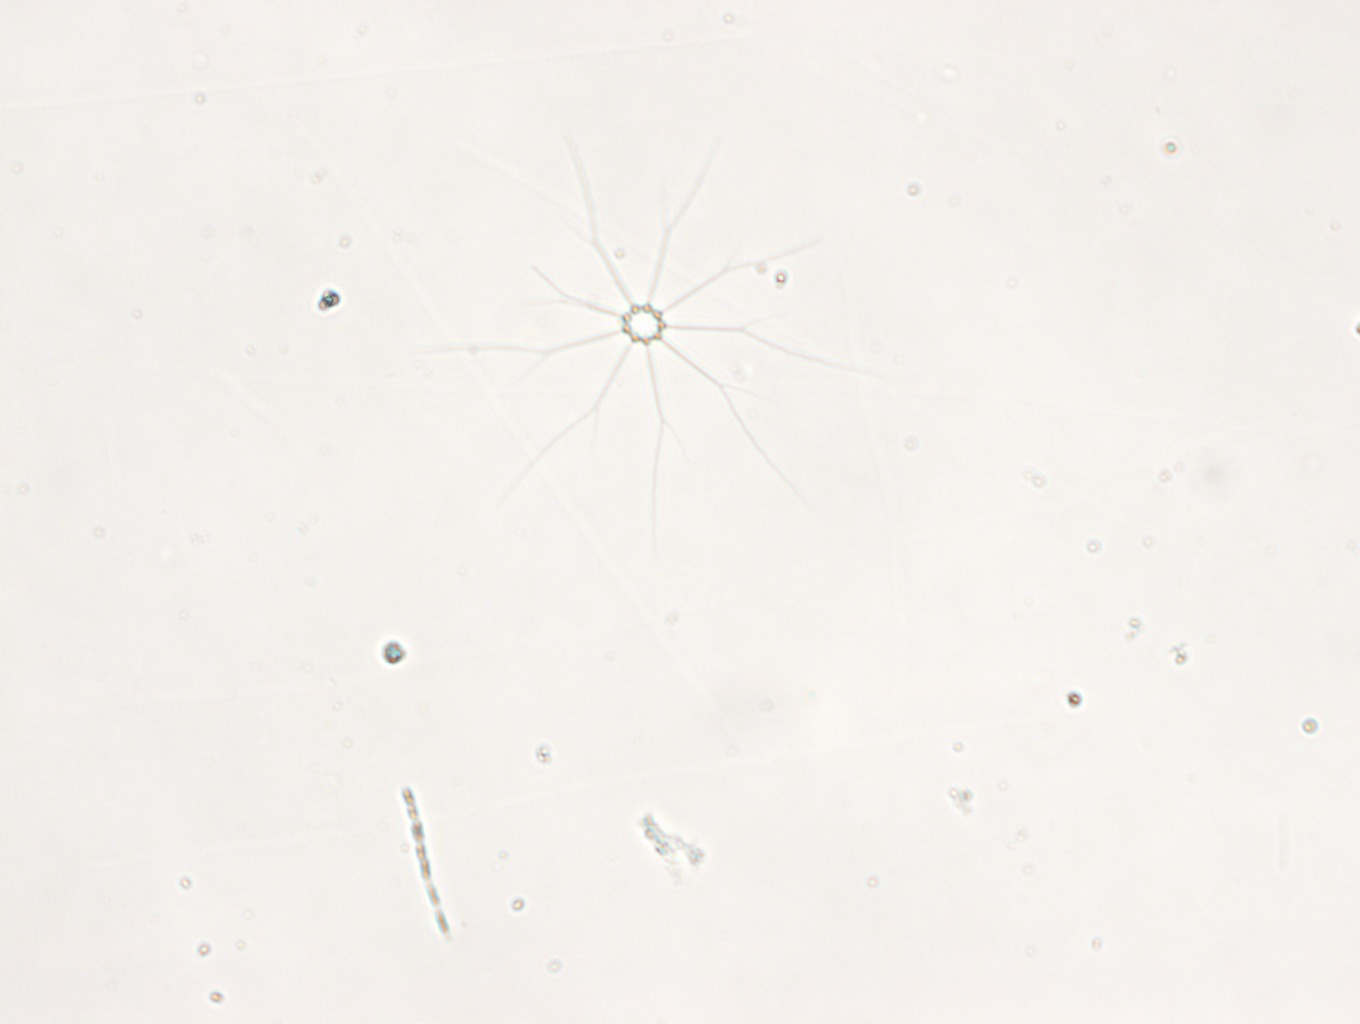bacteriastrum: (415, 122, 894, 542)
